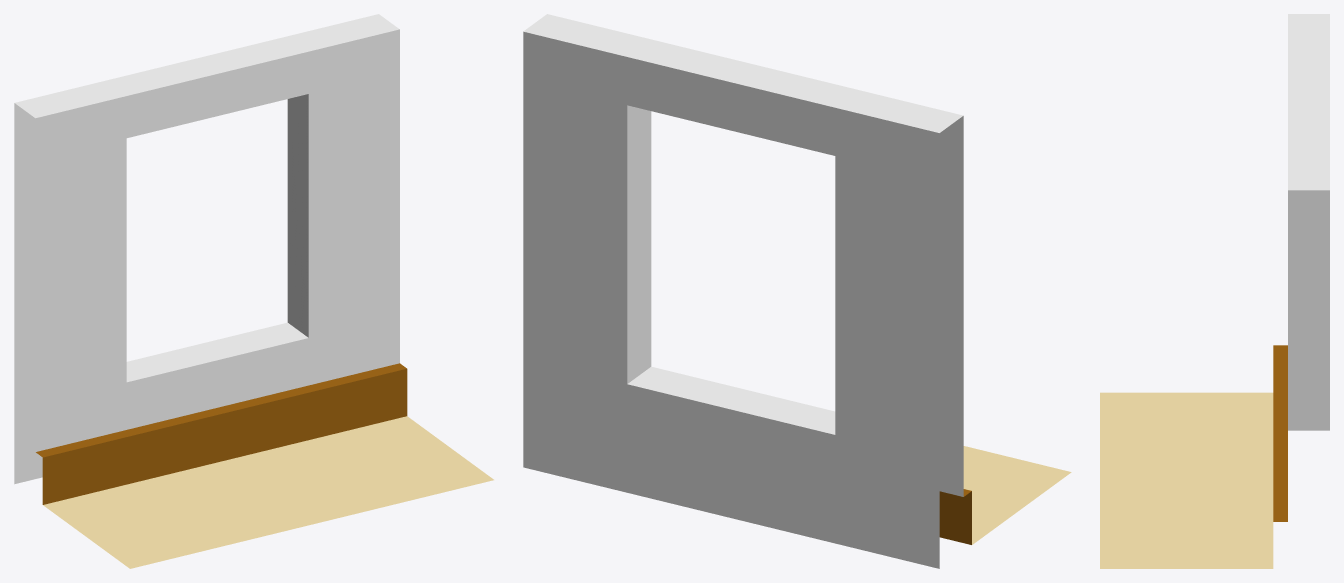
The model's file is E_Wall_Straight_Window.fbx.
3 renders of one model, left to right at view 1: azimuth 30°, elevation 25°; view 2: azimuth 150°, elevation 25°; view 3: azimuth 270°, elevation 25°, orthographic. The views are drawn at different scales.
Parts seen in each view (by area): view 1: E_Wall_Straight_Window; view 2: E_Wall_Straight_Window; view 3: E_Wall_Straight_Window.
Boxes of the visible parts, x1,y1,x2,y2 form: E_Wall_Straight_Window: (14,14,493,568); E_Wall_Straight_Window: (523,14,1071,568); E_Wall_Straight_Window: (1100,14,1329,568).
Size of the model in its own units: 200 by 200 by 110.
